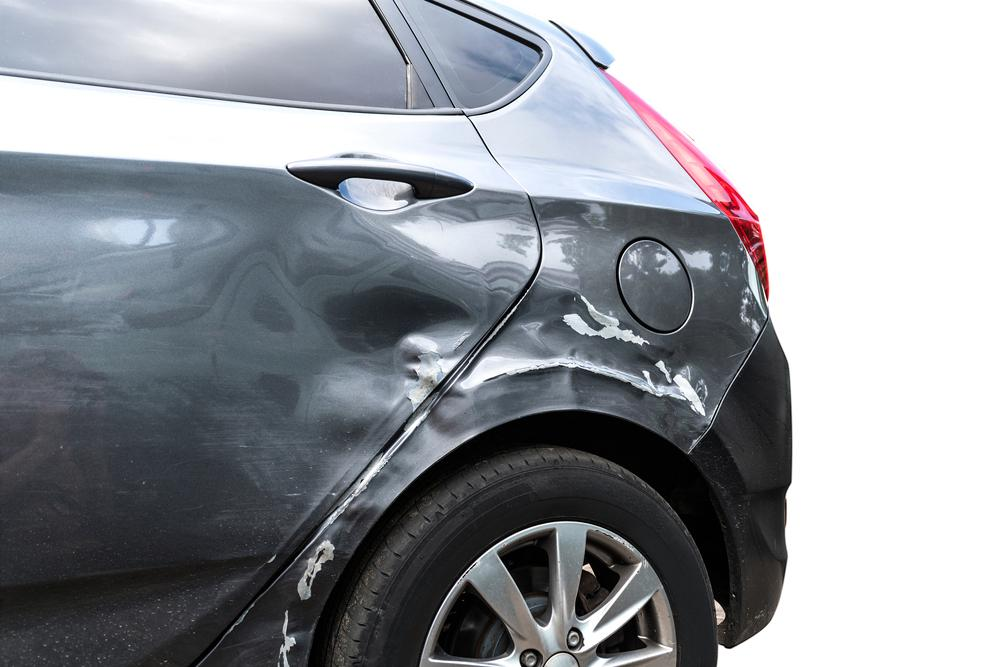dent: (330, 289, 740, 542), (194, 240, 468, 506)
scratch: (242, 537, 341, 667)
